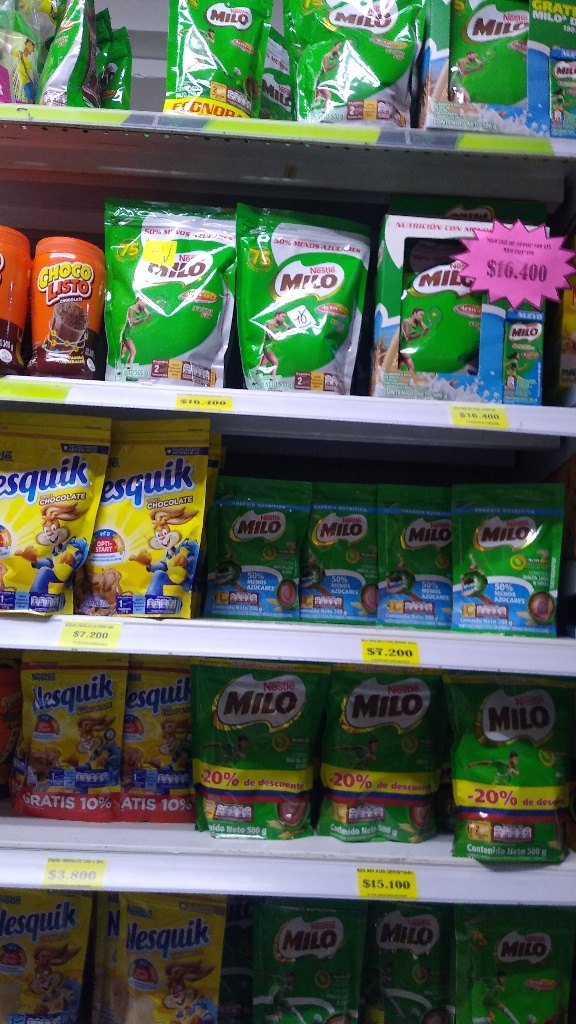COL0170103TRR30000: (31, 238, 102, 370)
COL0170203DYP25000: (165, 0, 283, 120)
COL0170203DYP50000: (183, 660, 322, 849)
COL0170205DYP20000: (211, 480, 304, 620)
COL0170205DYP50000: (280, 0, 426, 127)
COL0170306DYP20000: (111, 894, 225, 1024)
